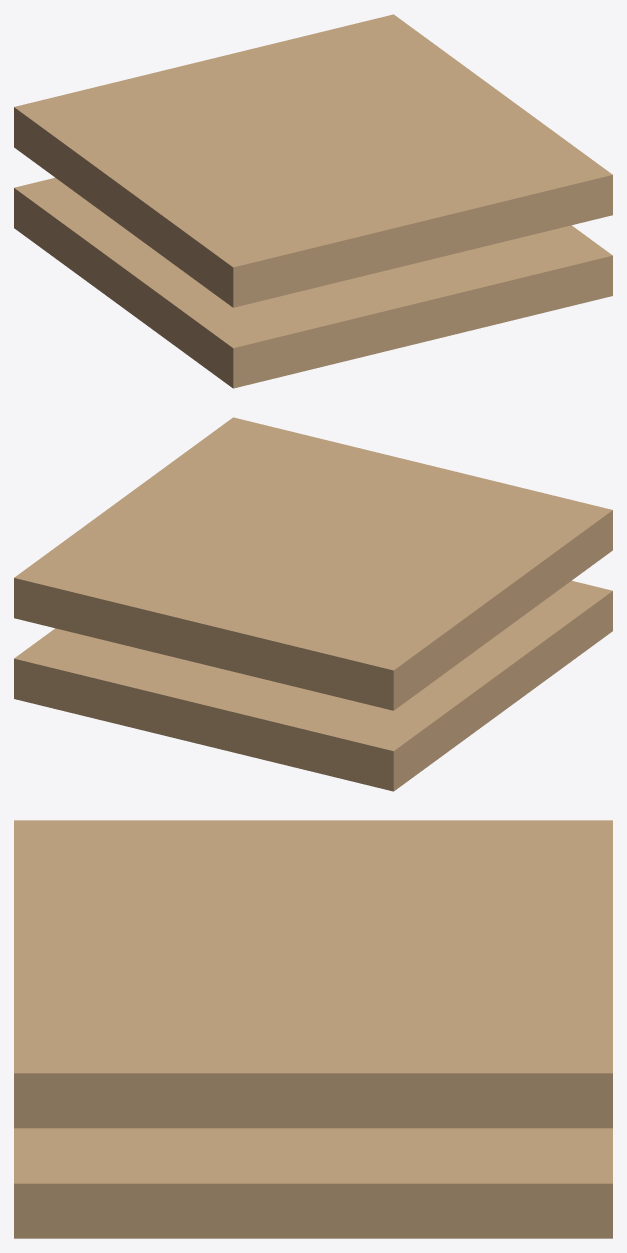
The model's file is wall-lamp-light-oak.glb.
3 views of the same model, one above another, from view 1: azimuth 30°, elevation 25°; view 2: azimuth 150°, elevation 25°; view 3: azimuth 270°, elevation 25° (orthographic). The views are drawn at different scales.
Parts seen in each view (by area): view 1: Front, Back; view 2: Front, Back; view 3: Front, Back.
Part boxes in pixels (x1,y1,x2,y2): Front: (14, 14, 612, 307); Back: (14, 177, 612, 388); Front: (14, 417, 612, 710); Back: (14, 580, 612, 791); Front: (14, 820, 612, 1128); Back: (14, 1128, 612, 1238).
Bounding box in the file's own units: 0.2 × 0.0676 × 0.2.
